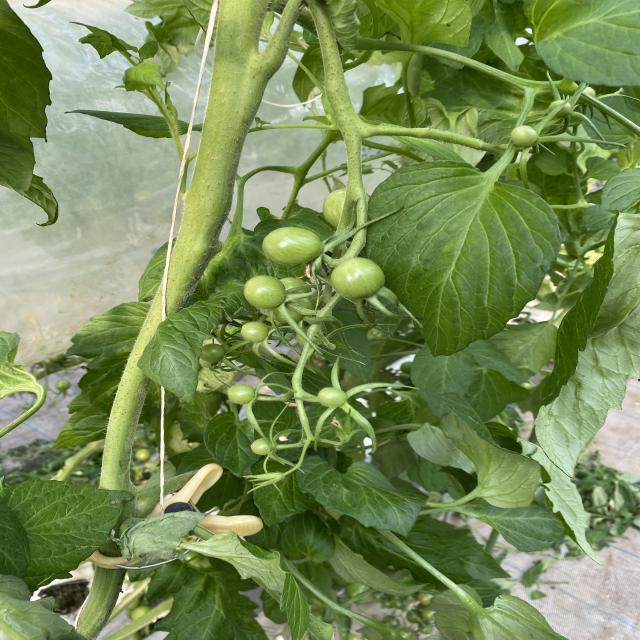yesil: (214, 168, 406, 437)
